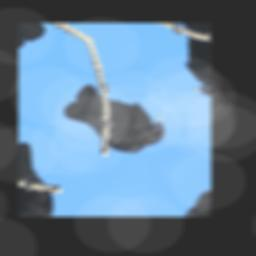Crow: (56, 60, 173, 177)
